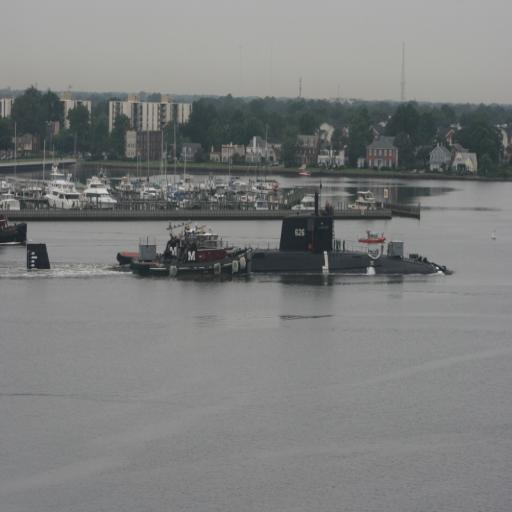submarine: (254, 211, 454, 273)
